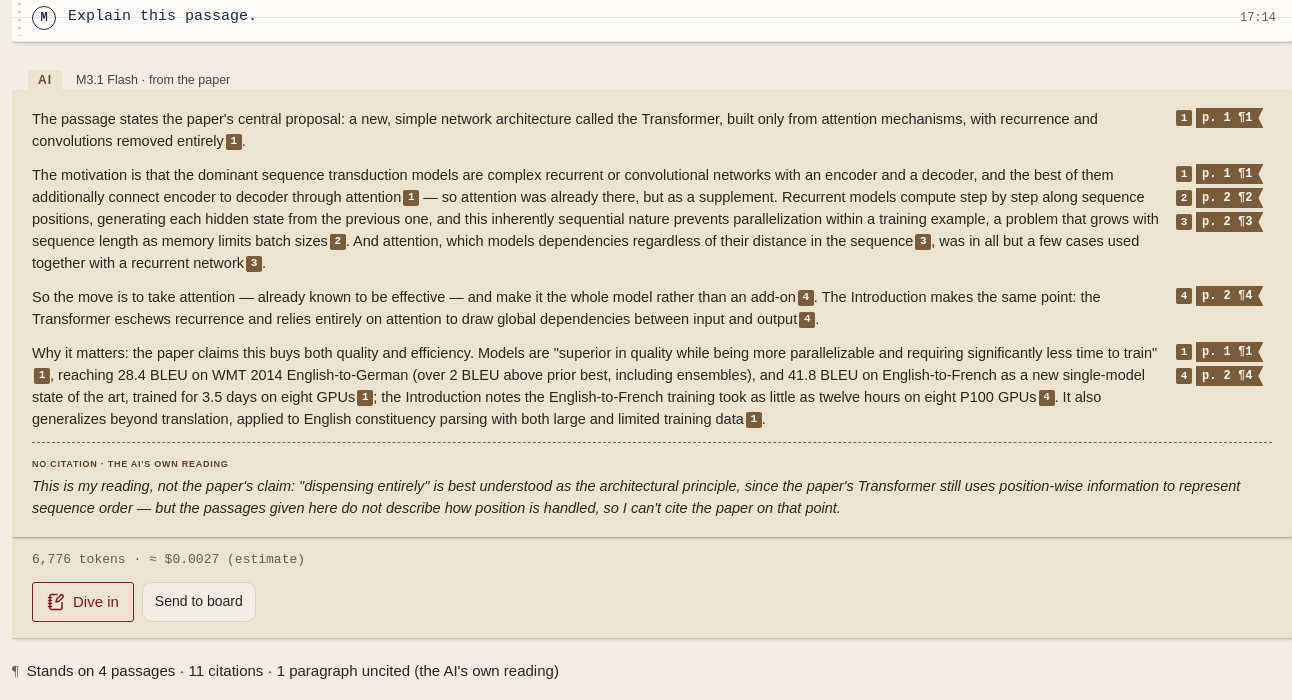
it: Dive in › says when the page could not be made, navigates nowhere, and can be tried again
The width and height of the screenshot is (1292, 700).
Click the button "Dive in" at [83, 602], box x1=32 y1=582 x2=134 y2=622
(page scrolled)
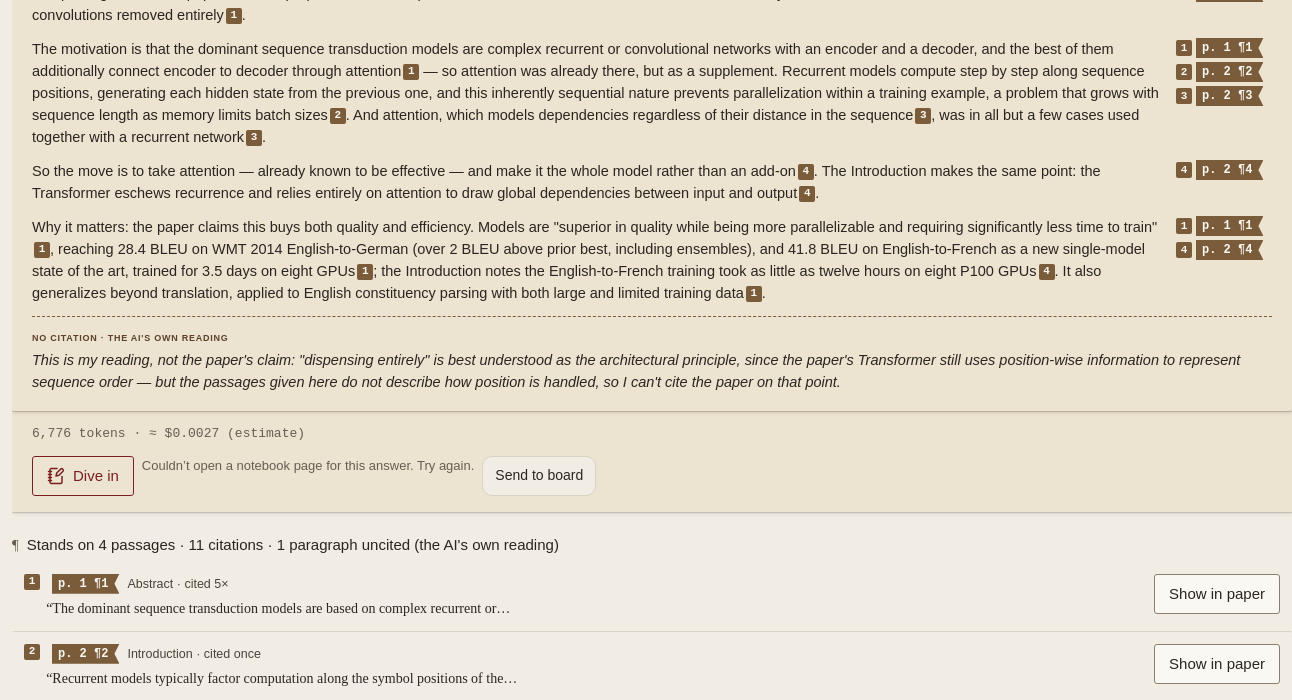
Now the message reads "Couldn’t open a notebook page for this answer. Try again.", box x1=142 y1=458 x2=474 y2=473
